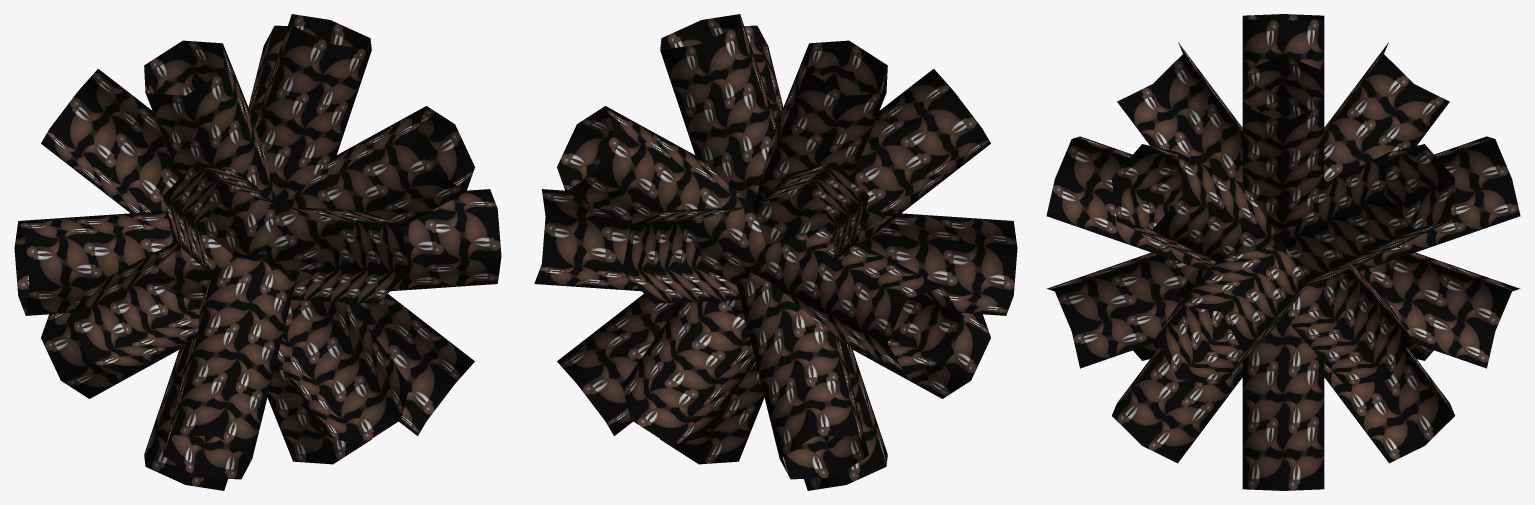
File: GreatDodecahemicosacron32.gltf
The picture shows the model from 3 angles, left to right: view 1: azimuth 30°, elevation 25°; view 2: azimuth 150°, elevation 25°; view 3: azimuth 270°, elevation 25°; orthographic projection.
Visible parts, largest first — view 1: GreatDodecahemicosacron1; view 2: GreatDodecahemicosacron1; view 3: GreatDodecahemicosacron1.
Boxes of the visible parts, x1,y1,x2,y2 form: GreatDodecahemicosacron1: [14, 14, 501, 490]; GreatDodecahemicosacron1: [534, 14, 1017, 490]; GreatDodecahemicosacron1: [1046, 14, 1520, 490].
Bounding box in the file's own units: 10.06 × 10.06 × 10.06.
Materials: 1 (1 with a texture image).
